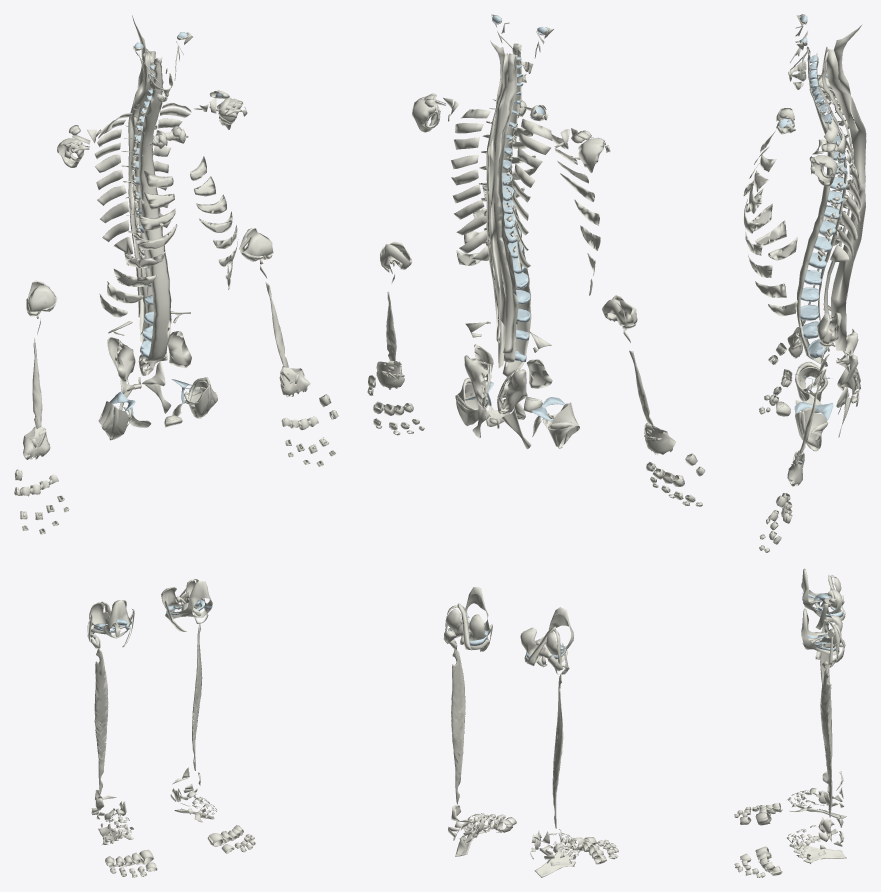
The model's file is joints.glb.
3 renders of one model, left to right at view 1: azimuth 30°, elevation 25°; view 2: azimuth 150°, elevation 25°; view 3: azimuth 270°, elevation 25°, orthographic. The views are drawn at different scales.
Visible parts, largest first — view 1: JNT.anterior_longitudinal_ligament.C, JNT.external_intercostal_membrane.R, JNT.internal_intercostal_membrane.R, JNT.external_intercostal_membrane.L, JNT.interosseous_membrane_of_leg.R, JNT.interspinous_ligaments.C, JNT.articular_capsule_of_knee_joint.L, JNT.internal_intercostal_membrane.L, JNT.articular_capsule_of_knee_joint.R, JNT.articular_capsule_of_elbow_joint.L, JNT.interosseous_membrane_of_leg.L, JNT.articular_capsule_of_elbow_joint.R (+2 smaller); view 2: JNT.internal_intercostal_membrane.L, JNT.ligamenta_flava.C, JNT.interspinous_ligaments.C, JNT.internal_intercostal_membrane.R, JNT.interosseous_membrane_of_leg.L, JNT.anterior_longitudinal_ligament.C, JNT.external_intercostal_membrane.R, JNT.posterior_longitudinal_ligament.C, JNT.articular_capsule_of_knee_joint.L, JNT.articular_capsule_of_knee_joint.R, JNT.supraspinous_ligament.C, JNT.posterior_sacro_iliac_ligament.R (+4 smaller); view 3: JNT.interspinous_ligaments.C, JNT.external_intercostal_membrane.L, JNT.internal_intercostal_membrane.L, JNT.anterior_longitudinal_ligament.C, JNT.external_intercostal_membrane.R, JNT.interosseous_membrane_of_leg.L, JNT.articular_capsule_of_knee_joint.L, JNT.ligamenta_flava.C, JNT.articular_capsule_of_knee_joint.R, JNT.posterior_longitudinal_ligament.C, JNT.long_plantar_ligament.L, JNT.articular_capsule_of_hip_joint.L (+16 smaller).
Boxes of the visible parts, x1,y1,x2,y2 form: JNT.anterior_longitudinal_ligament.C: [138, 57, 171, 362]; JNT.external_intercostal_membrane.R: [99, 170, 177, 317]; JNT.internal_intercostal_membrane.R: [94, 113, 132, 254]; JNT.external_intercostal_membrane.L: [190, 156, 238, 289]; JNT.interosseous_membrane_of_leg.R: [94, 648, 108, 794]; JNT.interspinous_ligaments.C: [130, 50, 149, 342]; JNT.articular_capsule_of_knee_joint.L: [161, 579, 212, 618]; JNT.internal_intercostal_membrane.L: [153, 102, 191, 235]; JNT.articular_capsule_of_knee_joint.R: [90, 600, 131, 638]; JNT.articular_capsule_of_elbow_joint.L: [239, 228, 272, 261]; JNT.interosseous_membrane_of_leg.L: [192, 622, 202, 770]; JNT.articular_capsule_of_elbow_joint.R: [28, 280, 56, 311]; JNT.internal_intercostal_membrane.L: [451, 109, 490, 260]; JNT.ligamenta_flava.C: [494, 53, 515, 353]; JNT.interspinous_ligaments.C: [488, 53, 508, 367]; JNT.internal_intercostal_membrane.R: [512, 119, 552, 270]; JNT.interosseous_membrane_of_leg.L: [451, 649, 465, 804]; JNT.anterior_longitudinal_ligament.C: [502, 43, 531, 376]; JNT.external_intercostal_membrane.R: [551, 134, 600, 295]; JNT.posterior_longitudinal_ligament.C: [499, 53, 518, 362]; JNT.articular_capsule_of_knee_joint.L: [446, 587, 490, 649]; JNT.articular_capsule_of_knee_joint.R: [520, 607, 573, 662]; JNT.supraspinous_ligament.C: [486, 109, 500, 343]; JNT.posterior_sacro_iliac_ligament.R: [497, 368, 527, 415]; JNT.interspinous_ligaments.C: [827, 49, 865, 350]; JNT.external_intercostal_membrane.L: [743, 154, 797, 316]; JNT.internal_intercostal_membrane.L: [824, 116, 861, 262]; JNT.anterior_longitudinal_ligament.C: [797, 46, 833, 366]; JNT.external_intercostal_membrane.R: [743, 131, 797, 260]; JNT.interosseous_membrane_of_leg.L: [820, 668, 832, 817]; JNT.articular_capsule_of_knee_joint.L: [801, 608, 843, 655]; JNT.ligamenta_flava.C: [822, 47, 854, 341]; JNT.articular_capsule_of_knee_joint.R: [801, 568, 844, 622]; JNT.posterior_longitudinal_ligament.C: [816, 53, 847, 351]; JNT.long_plantar_ligament.L: [789, 843, 846, 863]; JNT.articular_capsule_of_hip_joint.L: [795, 410, 826, 447].
Bounding box in the file's own units: 0.6609 × 1.58 × 0.2307.
